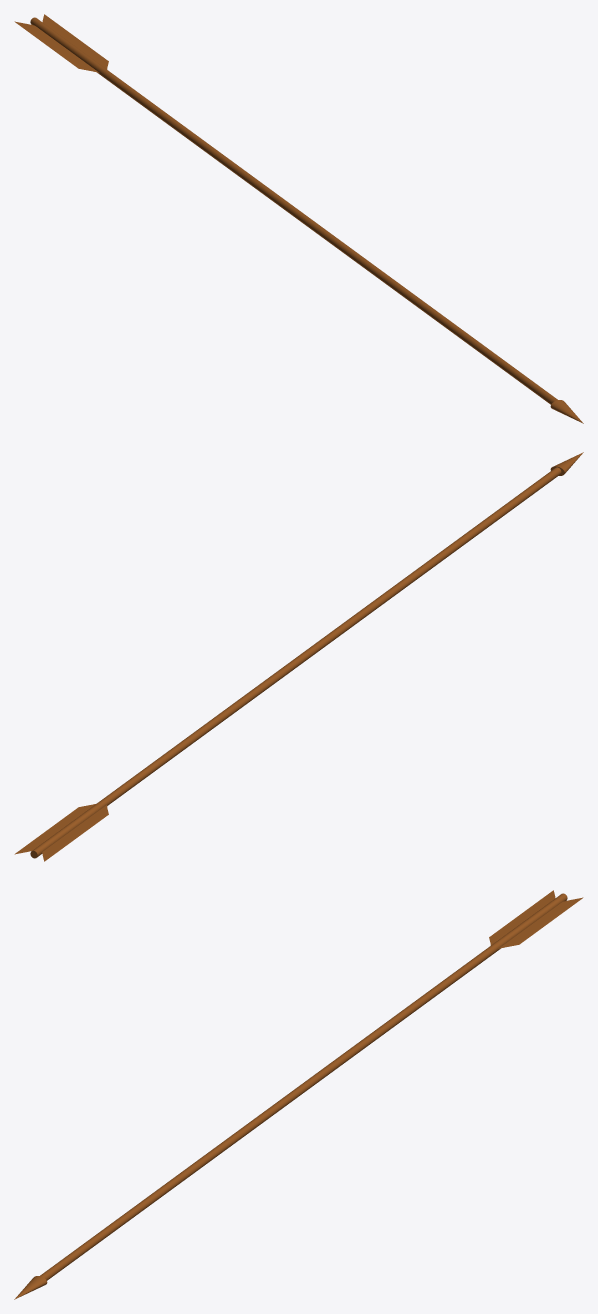
The model's file is arrow_01.fbx.
3 views of the same model, one above another, from view 1: azimuth 30°, elevation 25°; view 2: azimuth 150°, elevation 25°; view 3: azimuth 330°, elevation 25° (orthographic).
Visible parts, largest first — view 1: arrow; view 2: arrow; view 3: arrow.
Part boxes in pixels (x1,y1,x2,y2): arrow: (14,14,583,423); arrow: (14,452,583,861); arrow: (14,890,583,1299).
Bounding box in the file's own units: 200 × 56.72 × 6343.
